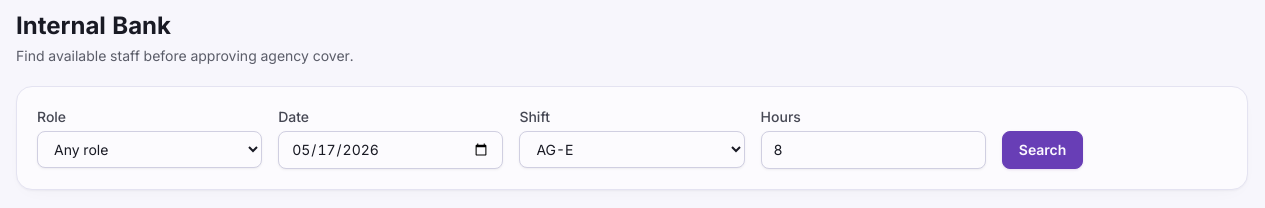
Test: InternalBank › disables search when hours are invalid
Step 1. Clear the number field labelled "Hours" → (873, 150), box [761,131,986,169]
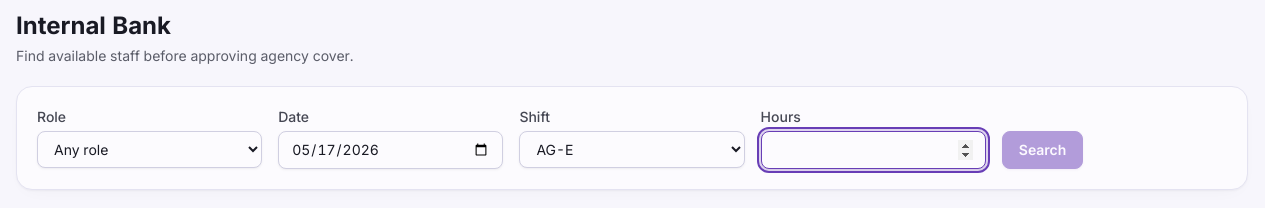
Now the button "Search" is disabled, box [1002,131,1083,169]
